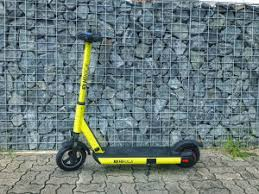kick_board: (57, 33, 200, 171)
kick_body: (101, 146, 174, 164)
kick_handler: (71, 30, 103, 44)
kick_neck: (75, 45, 91, 129)
kick_wheel: (57, 142, 86, 169), (175, 140, 199, 167)
